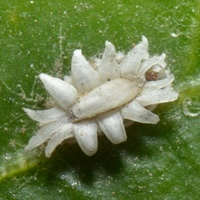insect: (23, 36, 177, 156)
